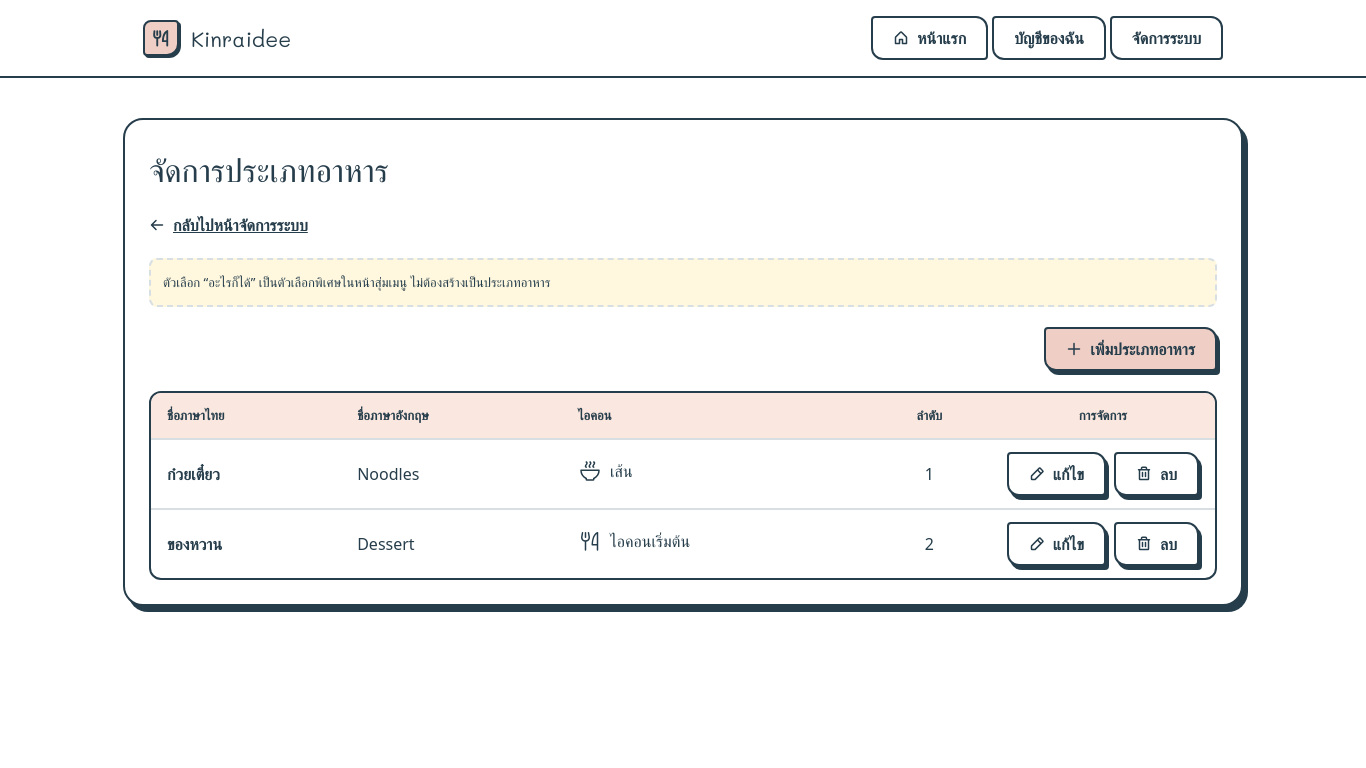
Test: FoodTypesPage edit › pre-fills the form and PATCHes only the changed fields
The width and height of the screenshot is (1366, 768).
Check: the table named "รายการประเภทอาหาร" is shown, box [151, 393, 1215, 578]
Click the button with aria-label "แก้ไขประเภทอาหาร ก๋วยเตี๋ยว": (1056, 474) [1007, 452, 1106, 496]
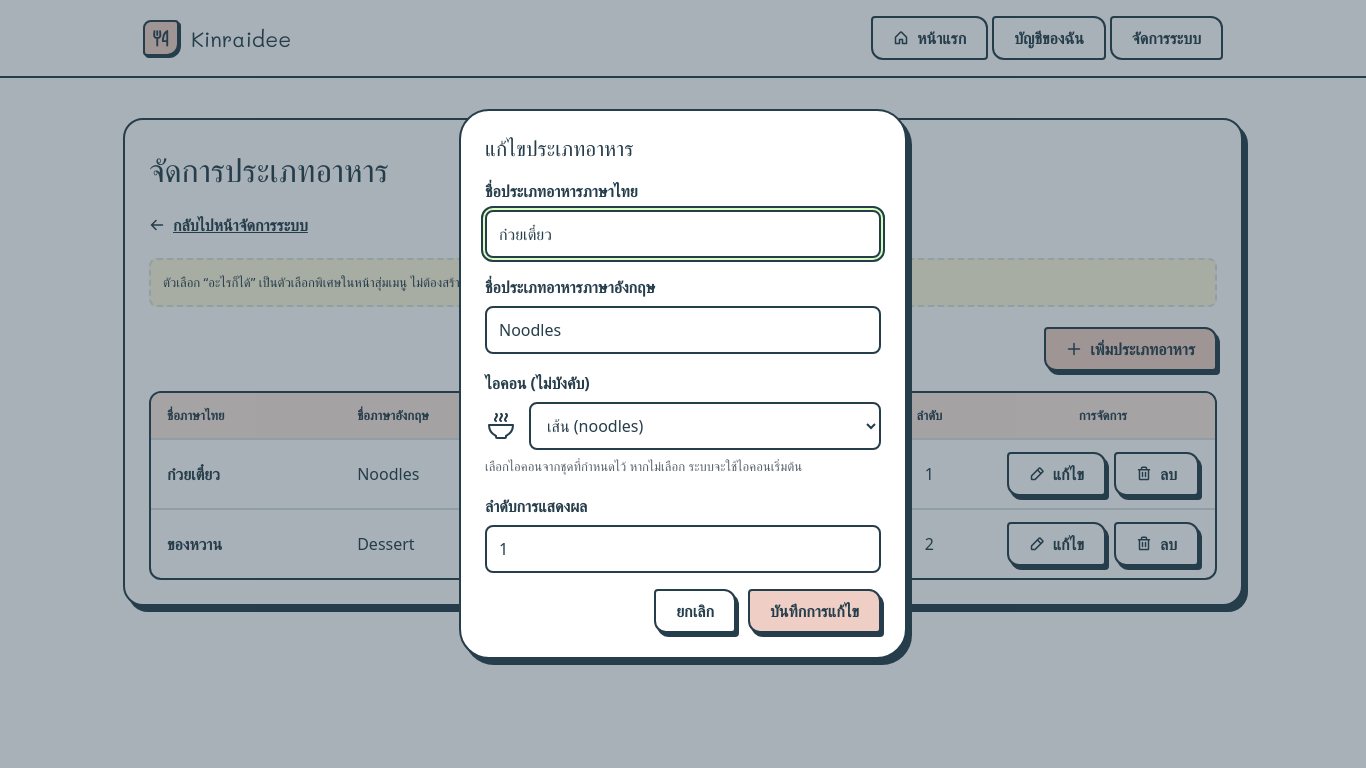
Check: the field labelled "ชื่อประเภทอาหารภาษาอังกฤษ" holds "Noodles", box [485, 306, 881, 354]
Check: the dropdown labelled "ไอคอน (ไม่บังคับ)" shows "เส้น (noodles)"
Select "ไม่เลือก (ใช้ไอคอนเริ่มต้น)" in the dropdown labelled "ไอคอน (ไม่บังคับ)": (705, 426) [529, 402, 881, 450]
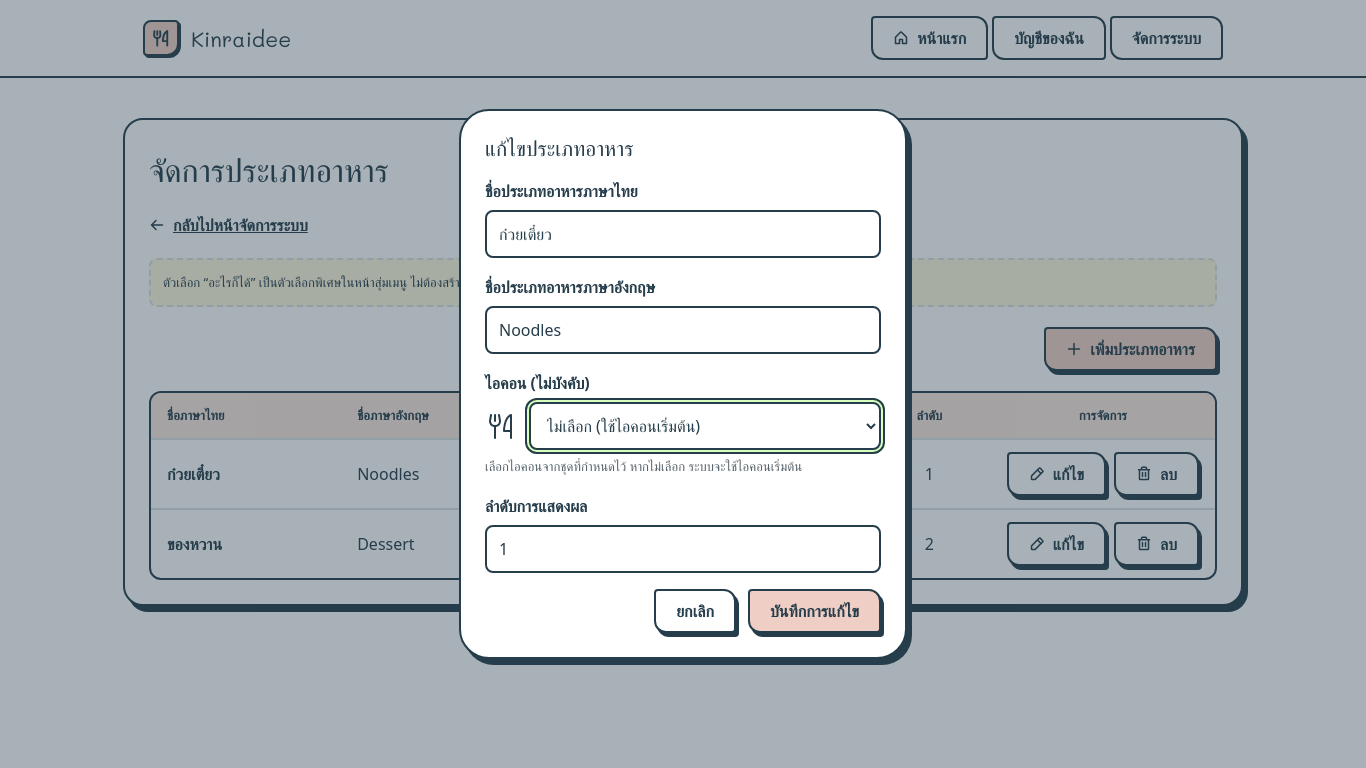
Click the button "บันทึกการแก้ไข": (814, 611) [748, 589, 881, 633]
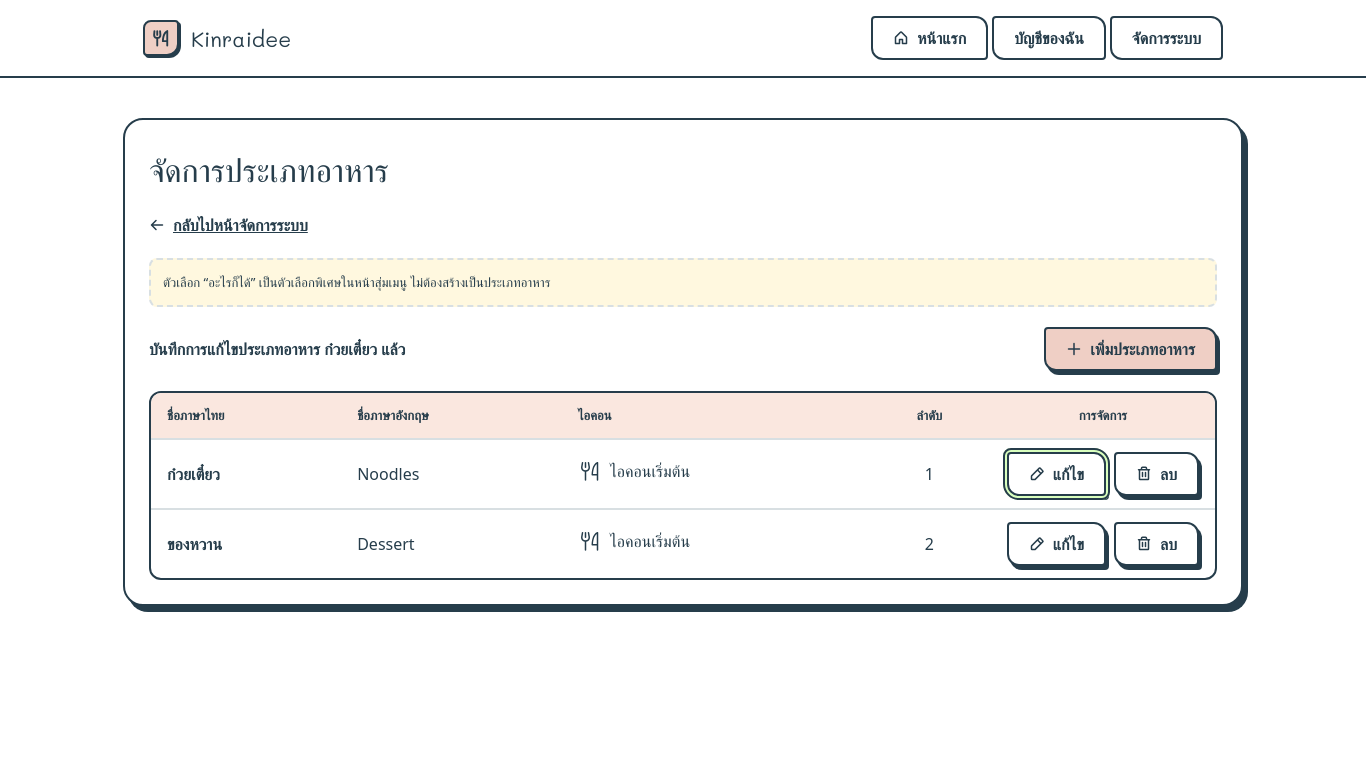
Check: the text "บันทึกการแก้ไขประเภทอาหาร ก๋วยเตี๋ยว แล้ว" is shown, box [149, 336, 405, 362]
